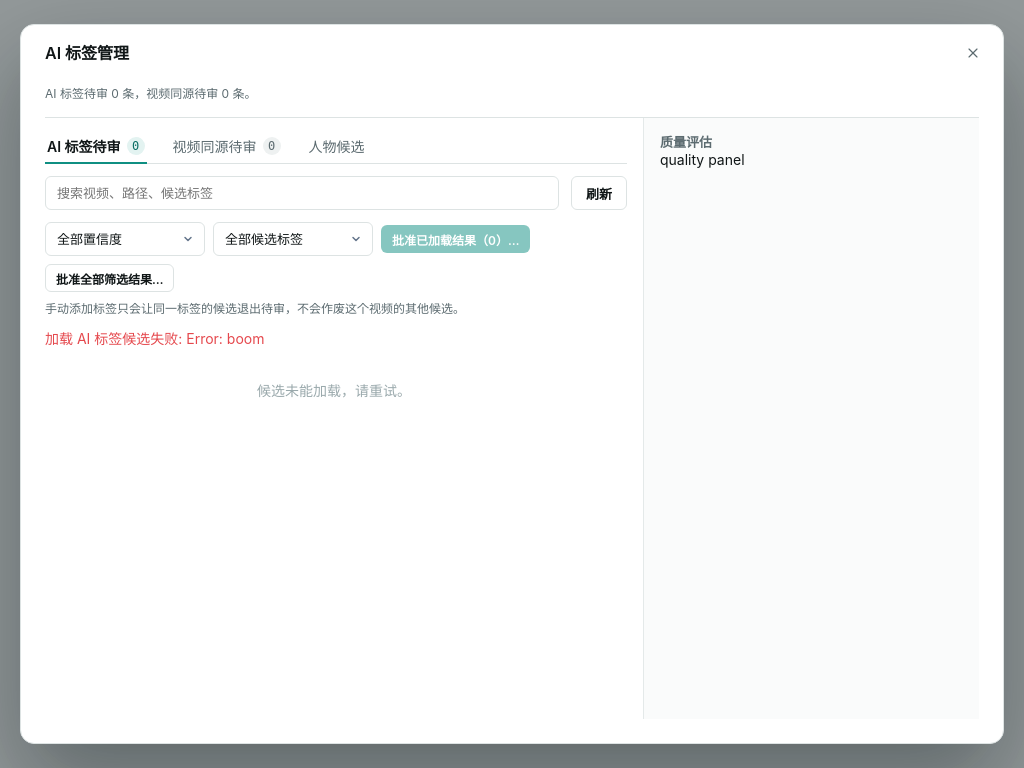
Test: AITagReviewDialog face cluster review section › keeps the face section usable when loading tag candidates failed
The width and height of the screenshot is (1024, 768).
Check: the message "加载 AI 标签候选失败: Error: boom" is shown, box left=45, top=330, right=264, bottom=347
Click the tab with test id "face-cluster-review-tab": (337,147) left=307, top=130, right=367, bottom=164
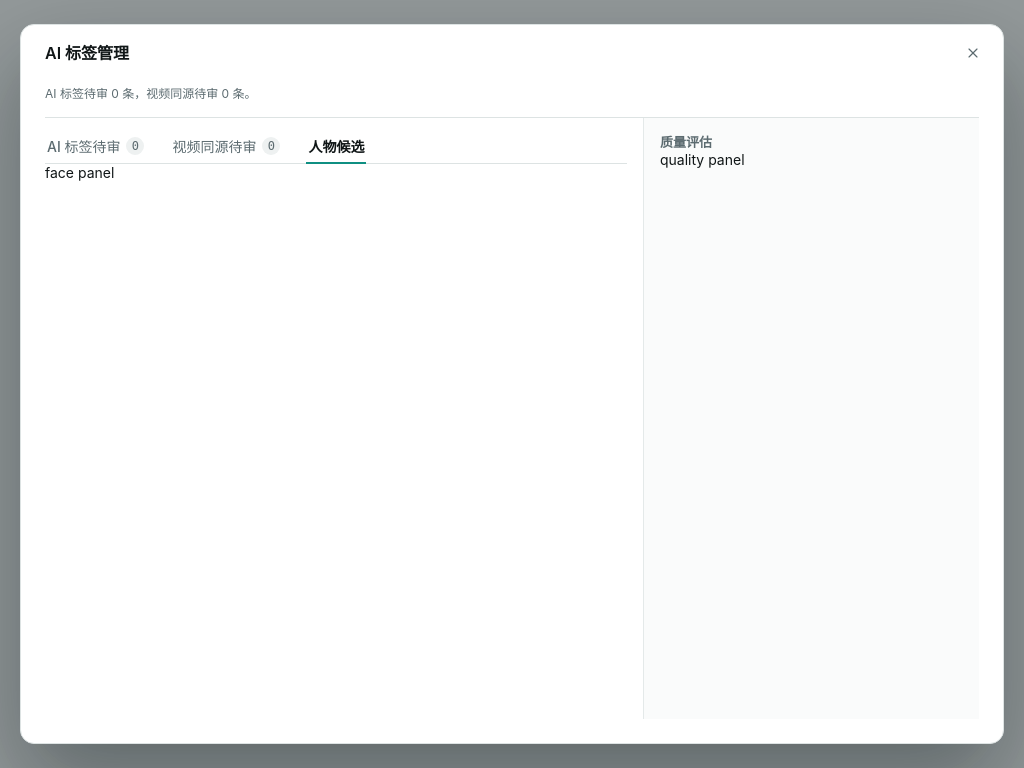
Check: the text "face panel" is shown, box left=45, top=164, right=114, bottom=181
